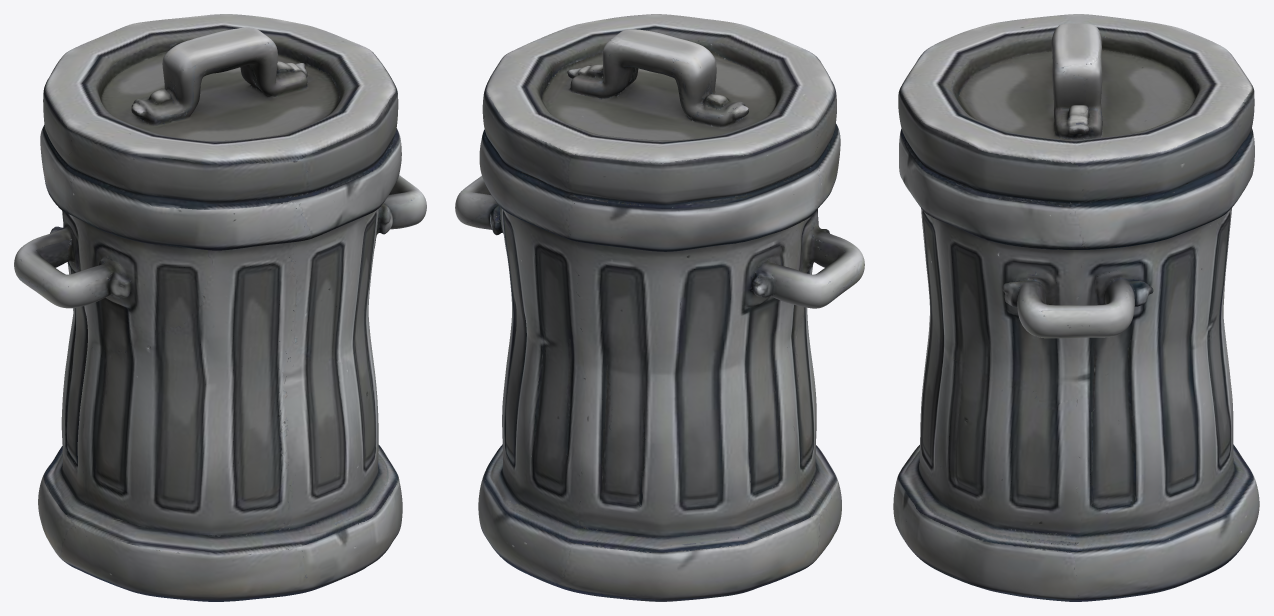
Rendered from Trash-Can.glb.
3 renders of one model, left to right at view 1: azimuth 30°, elevation 25°; view 2: azimuth 150°, elevation 25°; view 3: azimuth 270°, elevation 25°, orthographic.
Bounding box in the file's own units: 1.6 × 2 × 1.35.
1 material, 1 textured.
